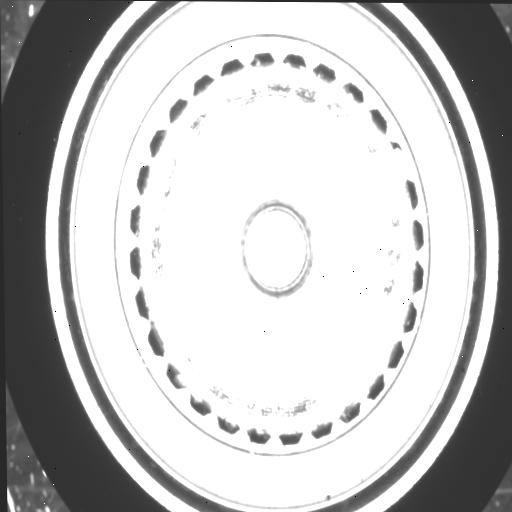gear: (126, 50, 428, 447)
